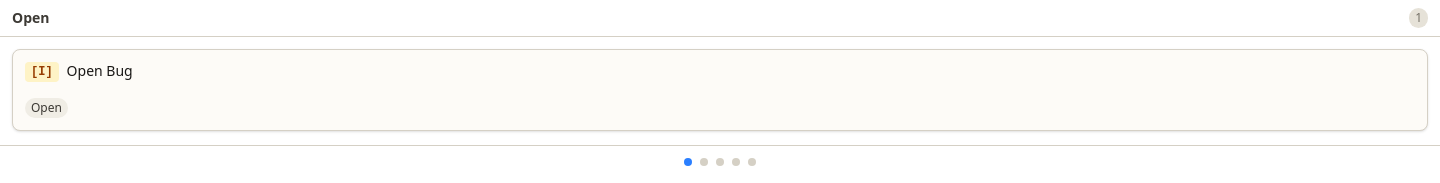
Scenario: MobileKanbanBoard › should navigate to column when dot is clicked
Click the button named "Doing 칼럼으로 이동": (720, 162) top-left (716, 158), bottom-right (724, 166)
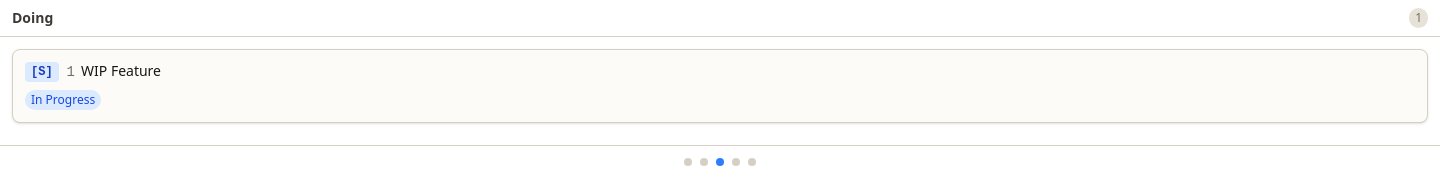
Now the text "Doing" is shown, box top-left (12, 8), bottom-right (53, 28)
Now the text "WIP Feature" is shown, box top-left (81, 61), bottom-right (161, 80)
